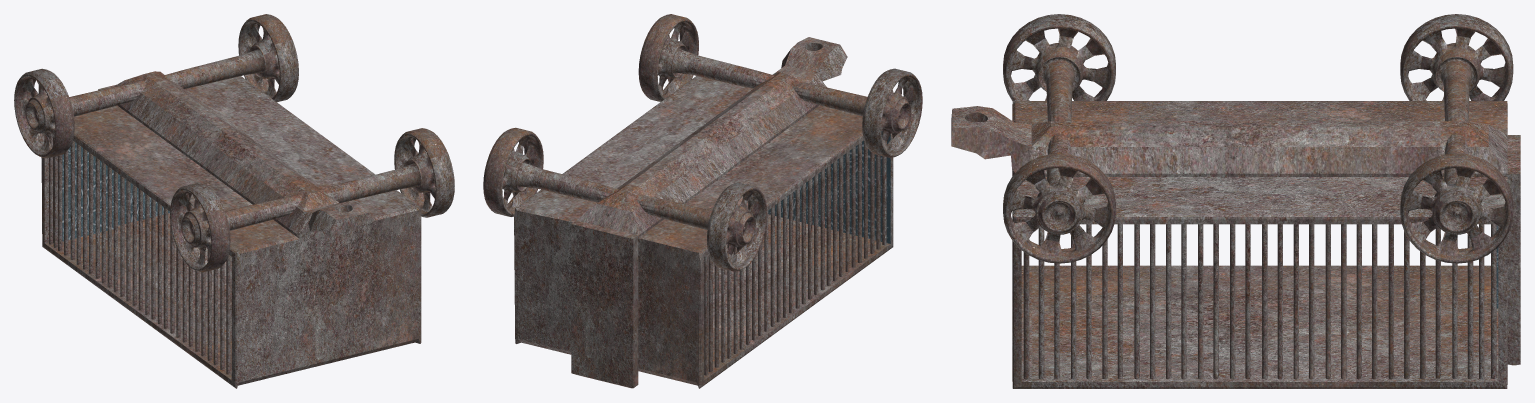
Rendered from wagon.FBX.
The picture shows the model from 3 angles, left to right: view 1: azimuth 30°, elevation 25°; view 2: azimuth 150°, elevation 25°; view 3: azimuth 270°, elevation 25°; orthographic projection. The views are drawn at different scales.
Visible parts, largest first — view 1: Wagon 021; view 2: Wagon 021; view 3: Wagon 021.
Part boxes in pixels (box(x1,y1,x2,y2)): Wagon 021: box(14, 14, 454, 388); Wagon 021: box(483, 14, 922, 388); Wagon 021: box(951, 14, 1520, 388).
Bounding box in the file's own units: 66.55 × 52.53 × 103.
